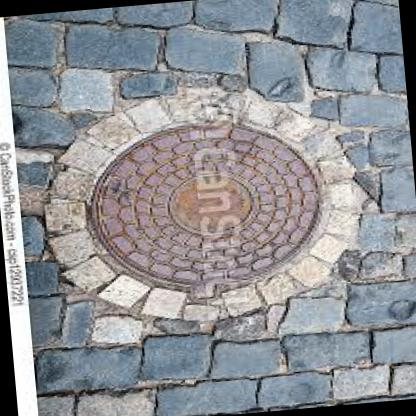manholes: (47, 92, 354, 334)
